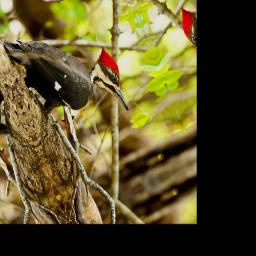Woodpecker: (1, 0, 135, 153)
